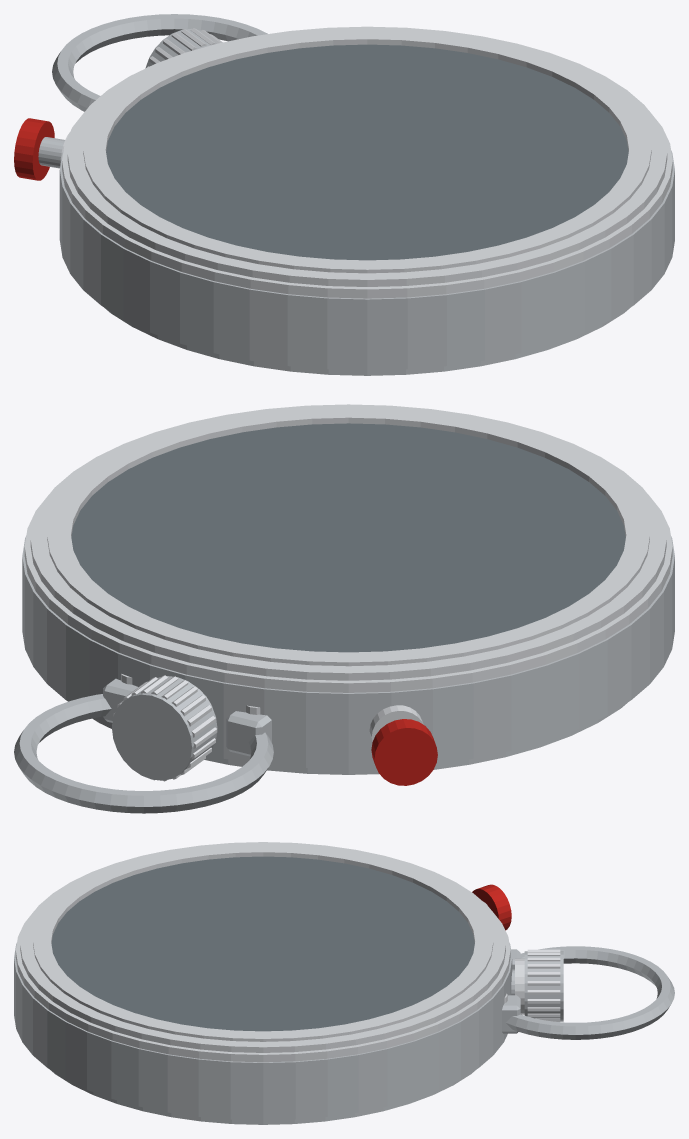
File: A-NEW-20261026-STOPWATCH-001_LOD2_R3.fbx
3 views of the same model, one above another, from view 1: azimuth 30°, elevation 25°; view 2: azimuth 150°, elevation 25°; view 3: azimuth 270°, elevation 25° (orthographic). The views are drawn at different scales.
Parts seen in each view (by area): view 1: front crystal, case perimeter wall, crystal retaining lip, bezel upper rim, bezel lower step, closed suspension loop, closed rear shell, red mushroom reset button, reset metal neck, winding crown; view 2: front crystal, case perimeter wall, crystal retaining lip, bezel upper rim, bezel lower step, closed suspension loop, winding crown, red mushroom reset button, closed rear shell, loop anchor lug, reset fixed collar, loop anchor lug.001; view 3: front crystal, case perimeter wall, crystal retaining lip, bezel upper rim, bezel lower step, closed suspension loop, closed rear shell, winding crown, red mushroom reset button, loop anchor lug.001, crown shoulder.
Boxes of the visible parts, x1,y1,x2,y2 form: front crystal: (106,44,628,260); case perimeter wall: (59,150,674,370); crystal retaining lip: (83,29,651,273); bezel upper rim: (67,26,667,286); bezel lower step: (62,111,672,298); closed suspension loop: (52,14,267,111); closed rear shell: (105,307,630,375); red mushroom reset button: (14,118,54,180); reset metal neck: (38,137,64,168); winding crown: (145,28,216,68); front crystal: (71,423,625,652); case perimeter wall: (22,536,674,769); crystal retaining lip: (47,407,649,666); bezel upper rim: (30,404,666,680); bezel lower step: (24,494,672,692); closed suspension loop: (14,694,273,813); winding crown: (112,676,217,780); red mushroom reset button: (371,719,437,785); closed rear shell: (93,702,627,774); loop anchor lug: (226,711,271,756); reset fixed collar: (369,705,423,742); loop anchor lug.001: (103,678,138,722); front crystal: (51,856,474,1031); case perimeter wall: (14,943,512,1120); crystal retaining lip: (33,844,493,1041); bezel upper rim: (20,842,505,1052); bezel lower step: (15,911,510,1062); closed suspension loop: (506,946,674,1039); closed rear shell: (50,1069,476,1124); winding crown: (524,951,563,1021); red mushroom reset button: (472,884,511,930); loop anchor lug.001: (502,995,520,1033); crown shoulder: (515,958,524,1014).
Size of the model in its own units: 5.5 by 1 by 7.29.
